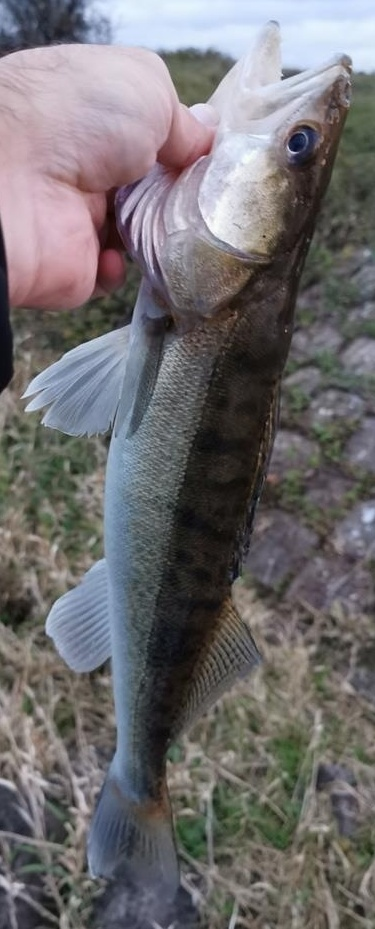Sander lucioperca: (20, 20, 355, 909)
